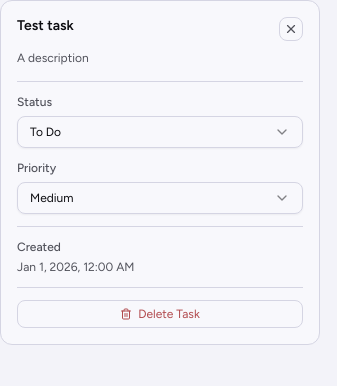
TaskDetailPanel › shows delete confirmation when delete button is clicked
Step 1. Click the button "Delete Task" → point(160, 314), box [17, 300, 303, 328]
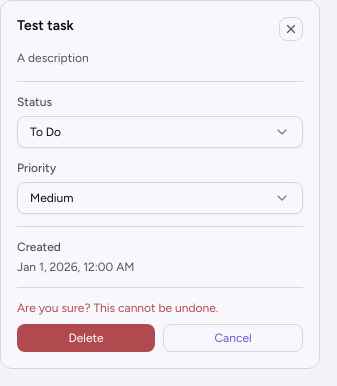
Expected: the text "Are you sure? This cannot be undone." is shown, [17, 300, 218, 314]
